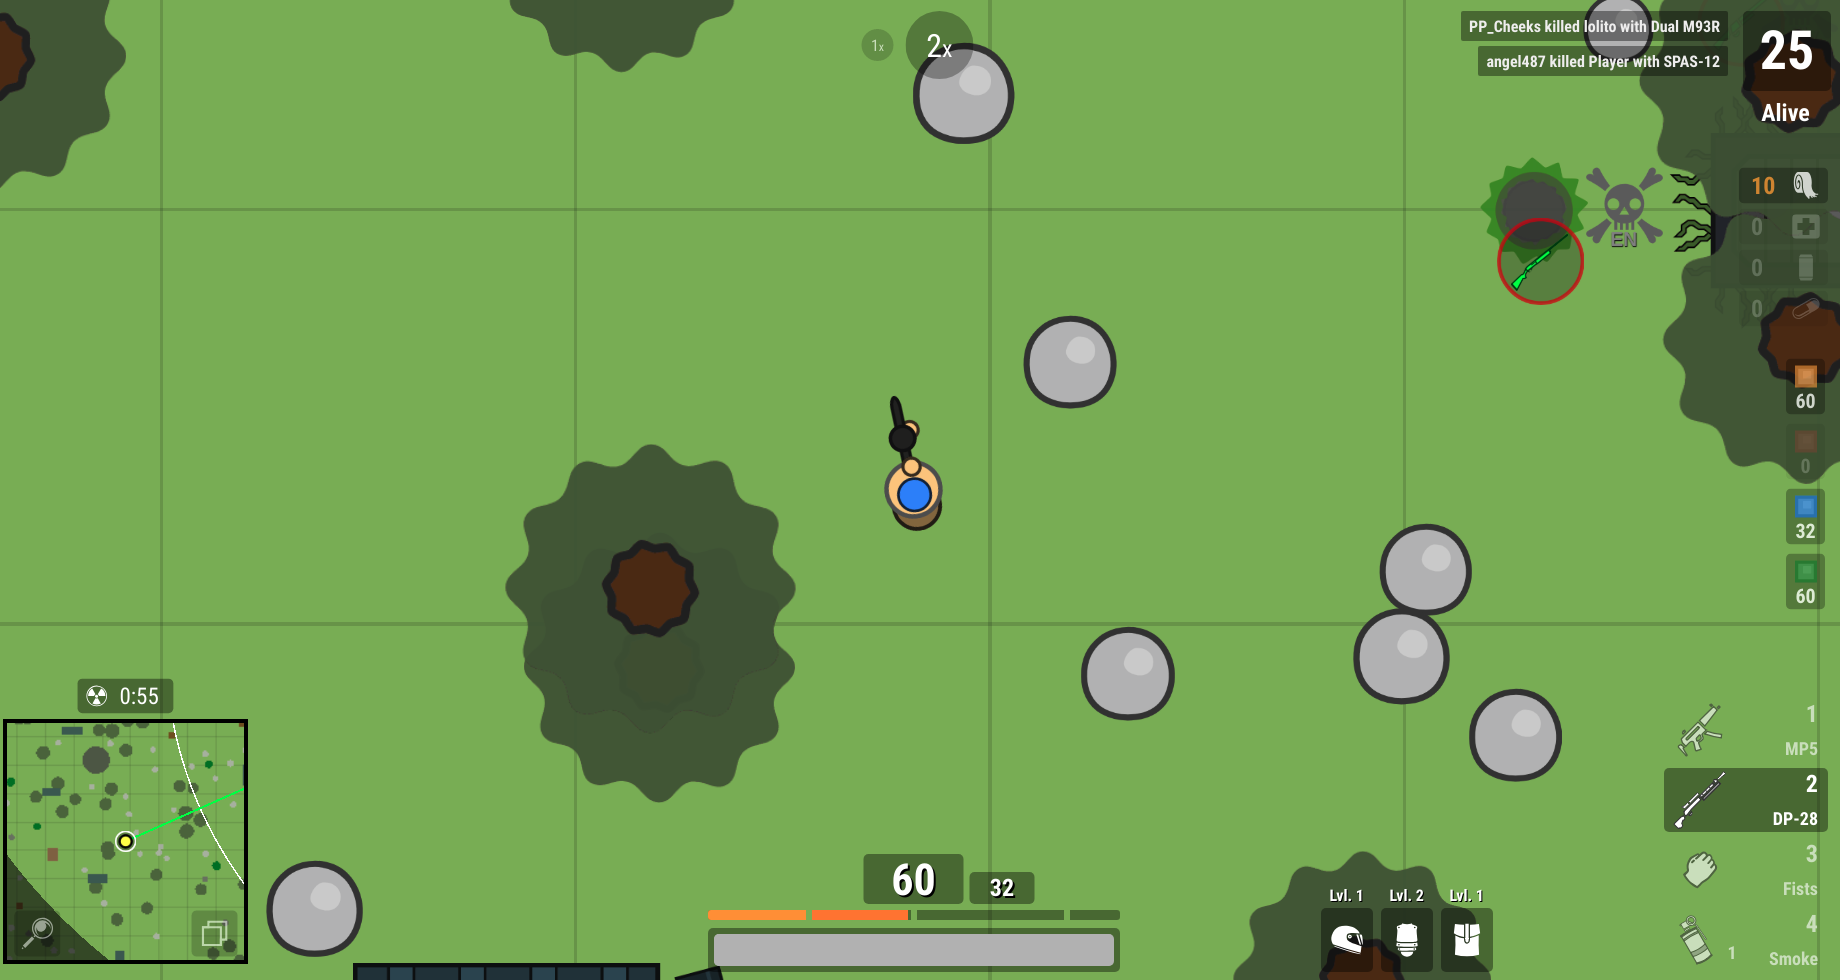Player: (855, 384, 959, 537)
